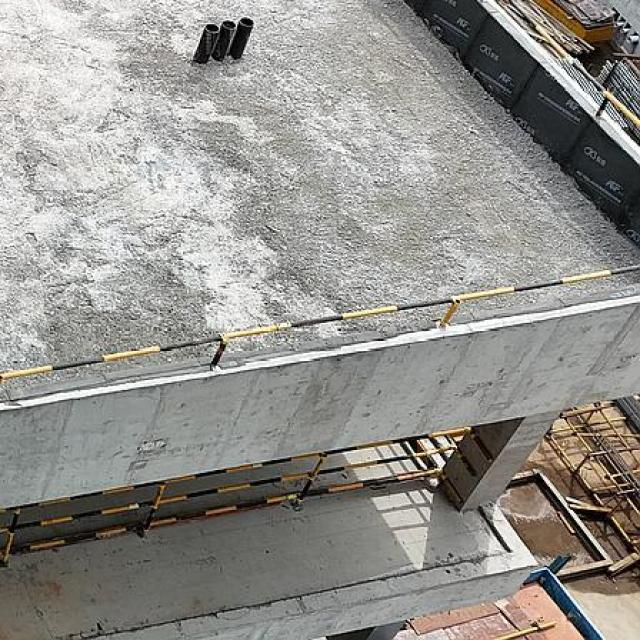edge_guardrail: (0, 258, 640, 383), (0, 426, 471, 563), (508, 0, 640, 133)
